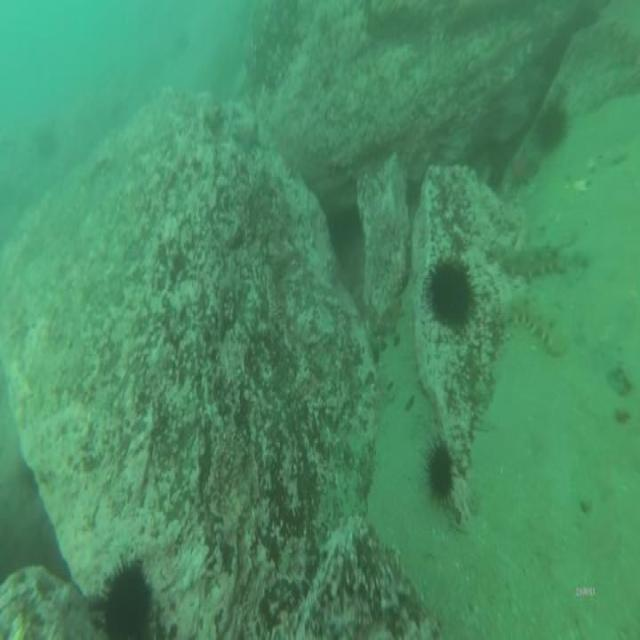echinus: (95, 551, 159, 640), (426, 252, 474, 336), (422, 442, 452, 512), (536, 98, 569, 152)
holothurian: (500, 296, 566, 357), (492, 236, 570, 284)
starfish: (230, 119, 262, 162), (509, 144, 535, 191)
